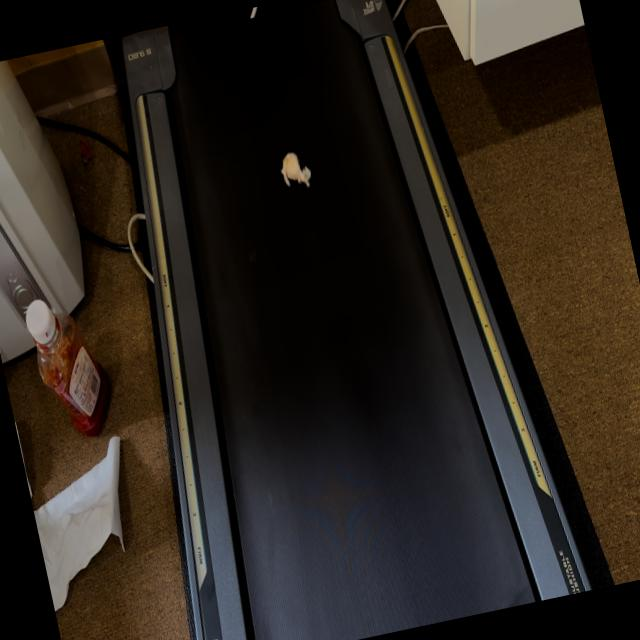Trash: (272, 142, 317, 196)
